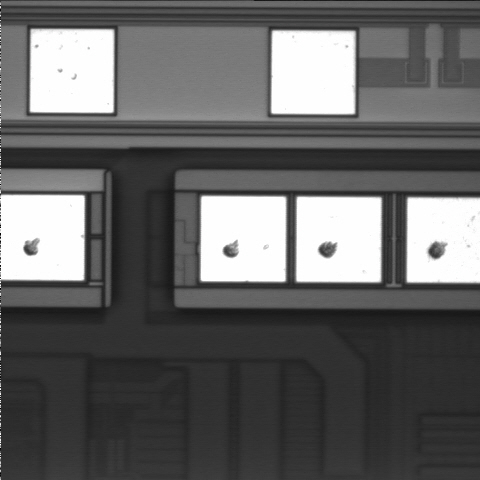pad: (201, 196, 286, 282), (296, 197, 381, 282), (30, 29, 114, 113), (271, 31, 355, 114)
